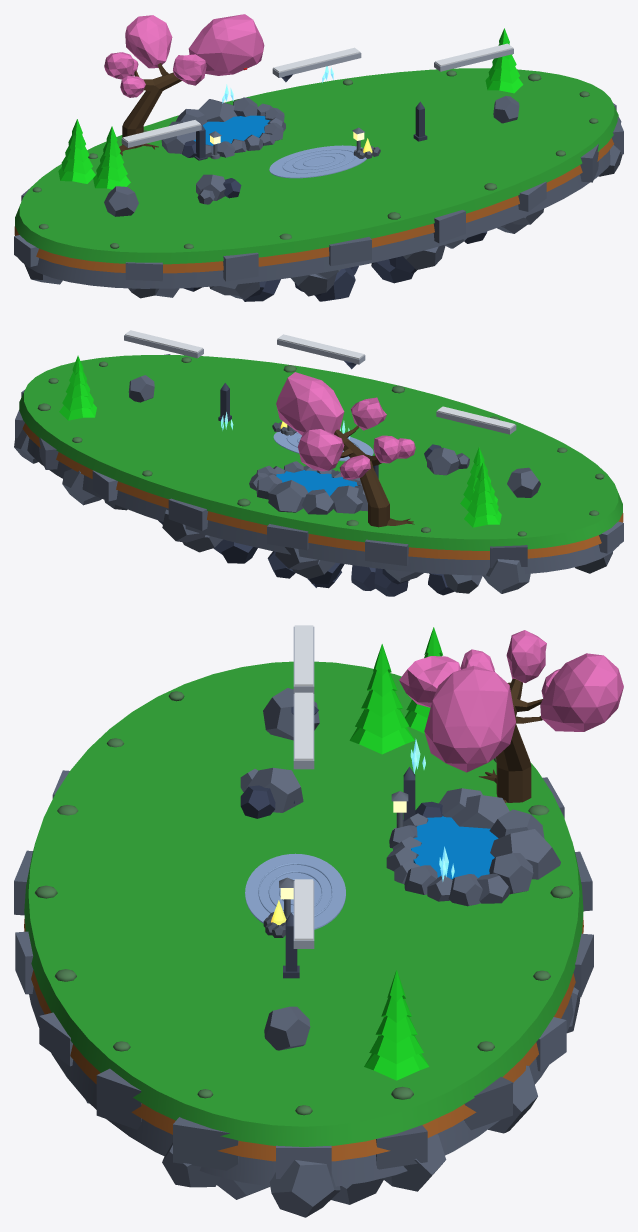
The model's file is stage.glb.
The picture shows the model from 3 angles, top to bottom: view 1: azimuth 30°, elevation 25°; view 2: azimuth 150°, elevation 25°; view 3: azimuth 270°, elevation 25°; orthographic projection. The views are drawn at different scales.
Parts seen in each view (by area): view 1: TopDeck, TopDeck.002, TopDeck.001, Icosphere.004, RuneCircle, Icosphere.002, Cylinder.004, Cylinder.008, Cylinder.003, TopDeck.003, Cylinder, Mesh_28 (+24 smaller); view 2: TopDeck, TopDeck.002, TopDeck.001, Icosphere.004, Cylinder.004, Icosphere.002, Cylinder.008, Cylinder, Mesh_39.002, TopDeck.003, Mesh_30.001, Mesh_44.002 (+33 smaller); view 3: TopDeck, Icosphere.004, TopDeck.002, Icosphere.002, TopDeck.001, RuneCircle, TopDeck.003, Cylinder.003, Cylinder, Cylinder.004, Mesh_34, Mesh_24 (+26 smaller).
Boxes of the visible parts, x1=… form: TopDeck: x1=15, y1=68, x2=618, y2=264; TopDeck.002: x1=18, y1=150, x2=610, y2=288; TopDeck.001: x1=14, y1=138, x2=613, y2=273; Icosphere.004: x1=188, y1=14, x2=264, y2=75; RuneCircle: x1=269, y1=145, x2=366, y2=178; Icosphere.002: x1=125, y1=15, x2=172, y2=68; Cylinder.004: x1=119, y1=63, x2=181, y2=155; Cylinder.008: x1=58, y1=119, x2=95, y2=183; Cylinder.003: x1=93, y1=126, x2=130, y2=189; TopDeck.003: x1=193, y1=115, x2=270, y2=145; Cylinder: x1=485, y1=28, x2=523, y2=93; Mesh_28: x1=329, y1=237, x2=371, y2=265; TopDeck: x1=19, y1=355, x2=622, y2=550; TopDeck.002: x1=27, y1=438, x2=619, y2=575; TopDeck.001: x1=22, y1=423, x2=623, y2=559; Icosphere.004: x1=276, y1=372, x2=344, y2=435; Cylinder.004: x1=334, y1=425, x2=414, y2=527; Icosphere.002: x1=298, y1=429, x2=344, y2=471; Cylinder.008: x1=464, y1=462, x2=501, y2=527; Cylinder: x1=59, y1=355, x2=96, y2=420; Mesh_39.002: x1=482, y1=559, x2=530, y2=593; TopDeck.003: x1=276, y1=470, x2=357, y2=496; Mesh_30.001: x1=365, y1=539, x2=408, y2=565; Mesh_44.002: x1=268, y1=480, x2=308, y2=512; TopDeck: x1=24, y1=661, x2=583, y2=1146; Icosphere.004: x1=424, y1=665, x2=515, y2=772; TopDeck.002: x1=29, y1=987, x2=573, y2=1186; Icosphere.002: x1=540, y1=653, x2=623, y2=731; TopDeck.001: x1=24, y1=917, x2=583, y2=1161; RuneCircle: x1=245, y1=853, x2=345, y2=929; TopDeck.003: x1=411, y1=816, x2=498, y2=879; Cylinder.003: x1=349, y1=644, x2=414, y2=754; Cylinder: x1=364, y1=970, x2=429, y2=1080; Cylinder.004: x1=479, y1=678, x2=542, y2=802; Mesh_34: x1=269, y1=1160, x2=340, y2=1217; Mesh_24: x1=173, y1=1117, x2=238, y2=1170.
Bounding box in the file's own units: 27.47 × 11.31 × 14.62.
